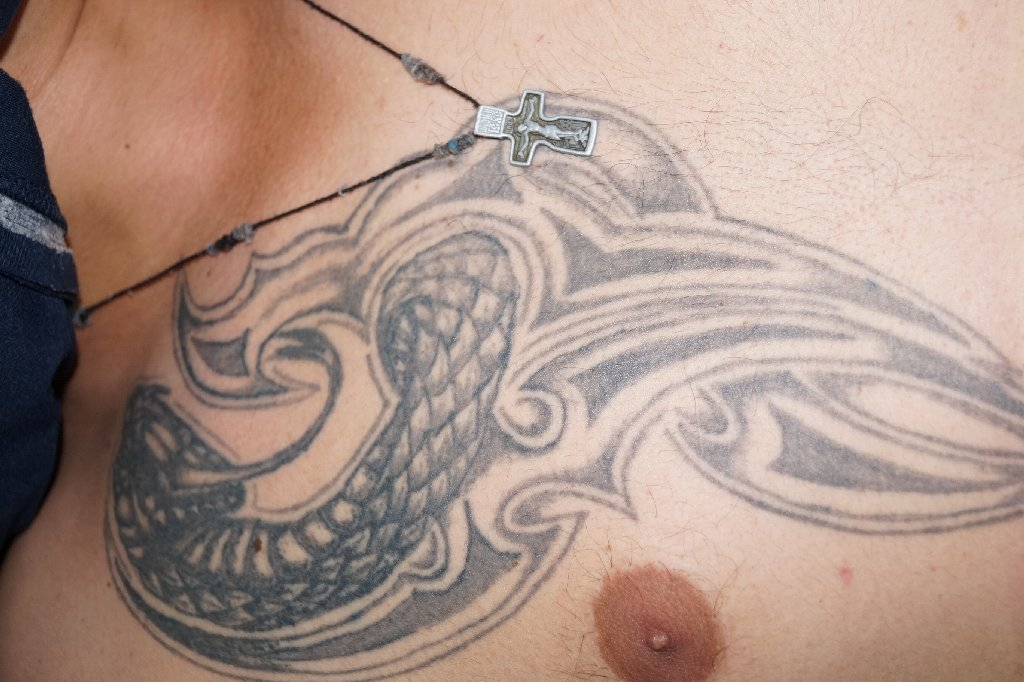tatu7_zmeya: (140, 194, 545, 666)
